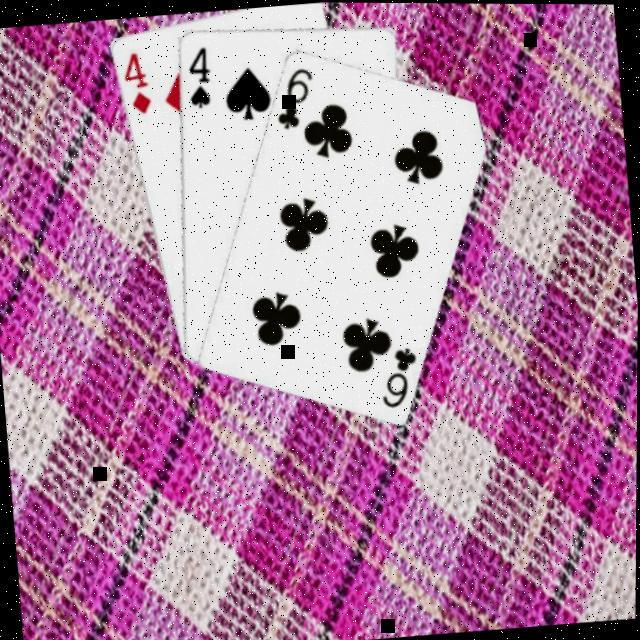4D: (115, 45, 152, 116)
4S: (179, 40, 213, 109)
6C: (267, 60, 318, 130), (372, 339, 422, 408)
